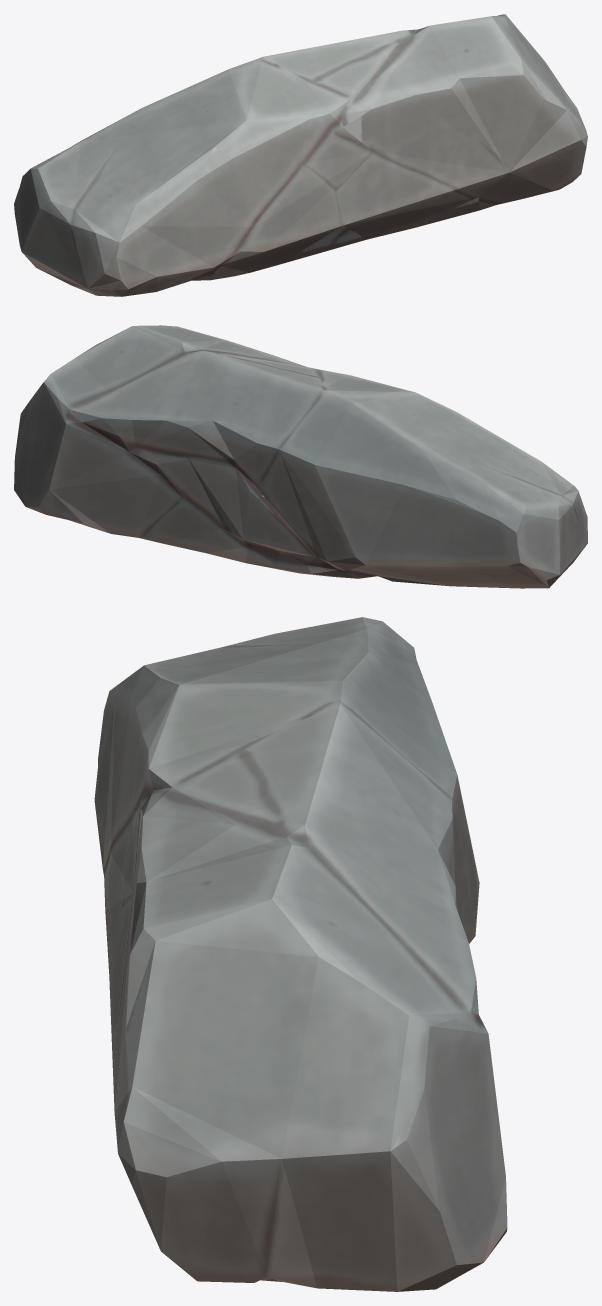
Rendered from ROK0110045.fbx.
The picture shows the model from 3 angles, top to bottom: view 1: azimuth 30°, elevation 25°; view 2: azimuth 150°, elevation 25°; view 3: azimuth 270°, elevation 25°; orthographic projection. The views are drawn at different scales.
Visible parts, largest first — view 1: smROK0110045; view 2: smROK0110045; view 3: smROK0110045.
Boxes of the visible parts, x1,y1,x2,y2 form: smROK0110045: (14, 14, 587, 296); smROK0110045: (14, 325, 587, 588); smROK0110045: (94, 617, 507, 1291).
Bounding box in the file's own units: 174 × 52.1 × 59.28.
1 material, 1 textured.
